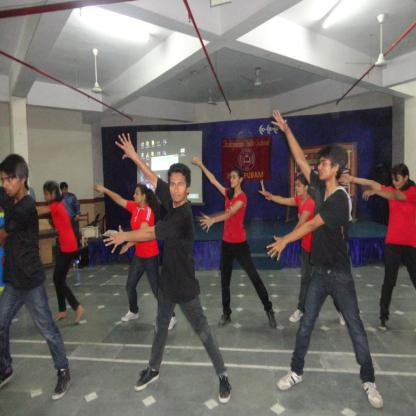face: (170, 174, 187, 204), (2, 172, 22, 197), (319, 156, 335, 180), (392, 174, 404, 191), (134, 188, 144, 204), (296, 180, 305, 197), (231, 172, 240, 189), (44, 189, 52, 204), (63, 187, 69, 195)
